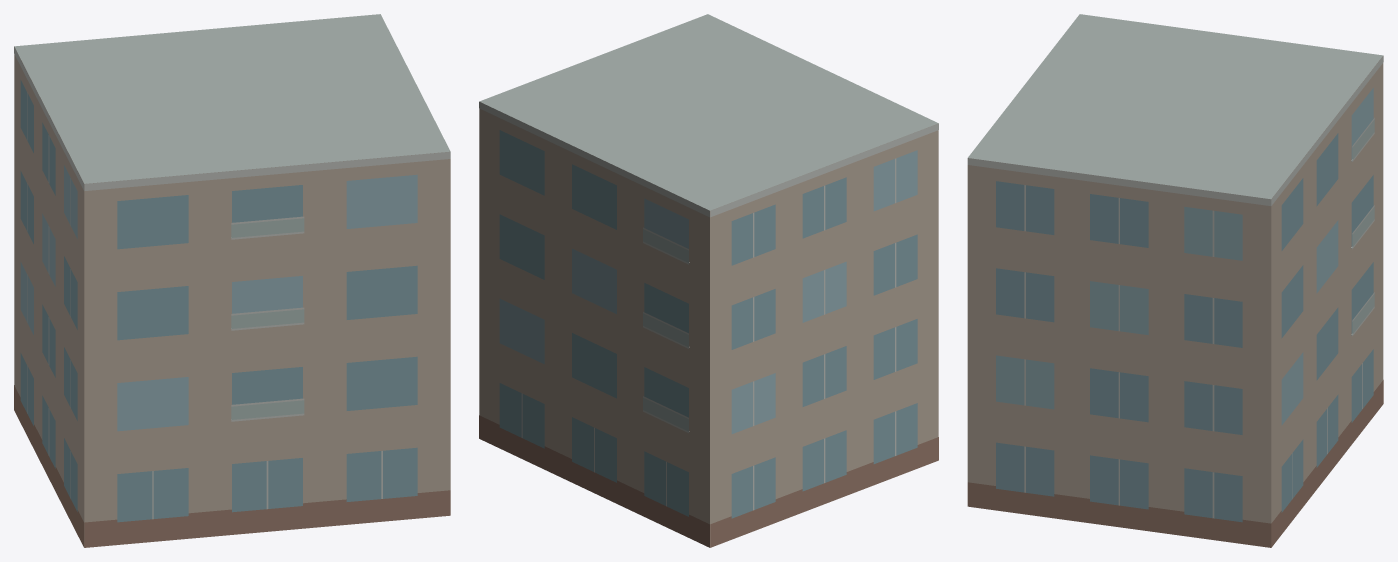
The model's file is survey-upis-32808512.glb.
3 renders of one model, left to right at view 1: azimuth 30°, elevation 25°; view 2: azimuth 150°, elevation 25°; view 3: azimuth 270°, elevation 25°, orthographic. The views are drawn at different scales.
Visible parts, largest first — view 1: survey-upis-32808512.tmp; view 2: survey-upis-32808512.tmp; view 3: survey-upis-32808512.tmp.
Boxes of the visible parts, x1,y1,x2,y2 form: survey-upis-32808512.tmp: (14,14,450,547); survey-upis-32808512.tmp: (479,14,938,547); survey-upis-32808512.tmp: (967,14,1383,547).
Bounding box in the file's own units: 13.91 × 12.2 × 13.2.
